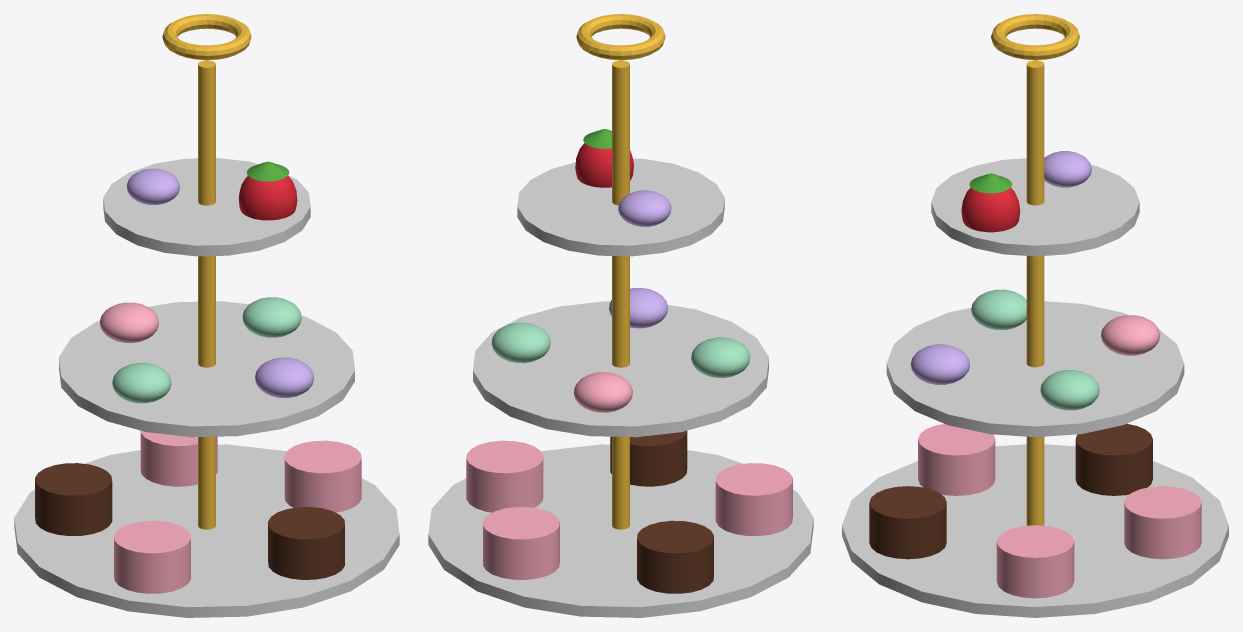
The model's file is Cafe_L9.fbx.
3 views of the same model, side by side, from view 1: azimuth 30°, elevation 25°; view 2: azimuth 150°, elevation 25°; view 3: azimuth 270°, elevation 25° (orthographic).
Visible parts, largest first — view 1: C9_Plate (×3), C9_Cake (×5), C9_Mac (×4), C9_Rod, C9_Ring, C9_A_Berry, C9_TopMac, C9_A_Leaf; view 2: C9_Plate (×3), C9_Cake (×5), C9_Mac (×4), C9_Rod, C9_Ring, C9_TopMac, C9_A_Berry; view 3: C9_Plate (×3), C9_Cake (×5), C9_Mac (×4), C9_Rod, C9_Ring, C9_A_Berry, C9_TopMac, C9_A_Leaf.
Part boxes in pixels (box(x1,y1,x2,y2)): C9_Plate (×3): box(14, 158, 399, 617); C9_Cake (×5): box(35, 430, 361, 593); C9_Mac (×4): box(99, 297, 313, 403); C9_Rod: box(198, 60, 215, 529); C9_Ring: box(162, 14, 251, 60); C9_A_Berry: box(238, 176, 297, 220); C9_TopMac: box(126, 168, 179, 204); C9_A_Leaf: box(246, 161, 289, 181); C9_Plate (×3): box(428, 158, 813, 617); C9_Cake (×5): box(466, 430, 792, 593); C9_Mac (×4): box(491, 288, 750, 412); C9_Rod: box(612, 60, 629, 529); C9_Ring: box(576, 14, 665, 60); C9_TopMac: box(618, 190, 671, 226); C9_A_Berry: box(575, 143, 633, 187); C9_Plate (×3): box(842, 158, 1228, 617); C9_Cake (×5): box(869, 423, 1201, 598); C9_Mac (×4): box(910, 289, 1160, 410); C9_Rod: box(1026, 60, 1044, 525); C9_Ring: box(991, 14, 1079, 60); C9_A_Berry: box(961, 187, 1020, 232); C9_TopMac: box(1044, 151, 1091, 187); C9_A_Leaf: box(969, 173, 1012, 193).
Size of the model in its own units: 26 by 38.48 by 26.
